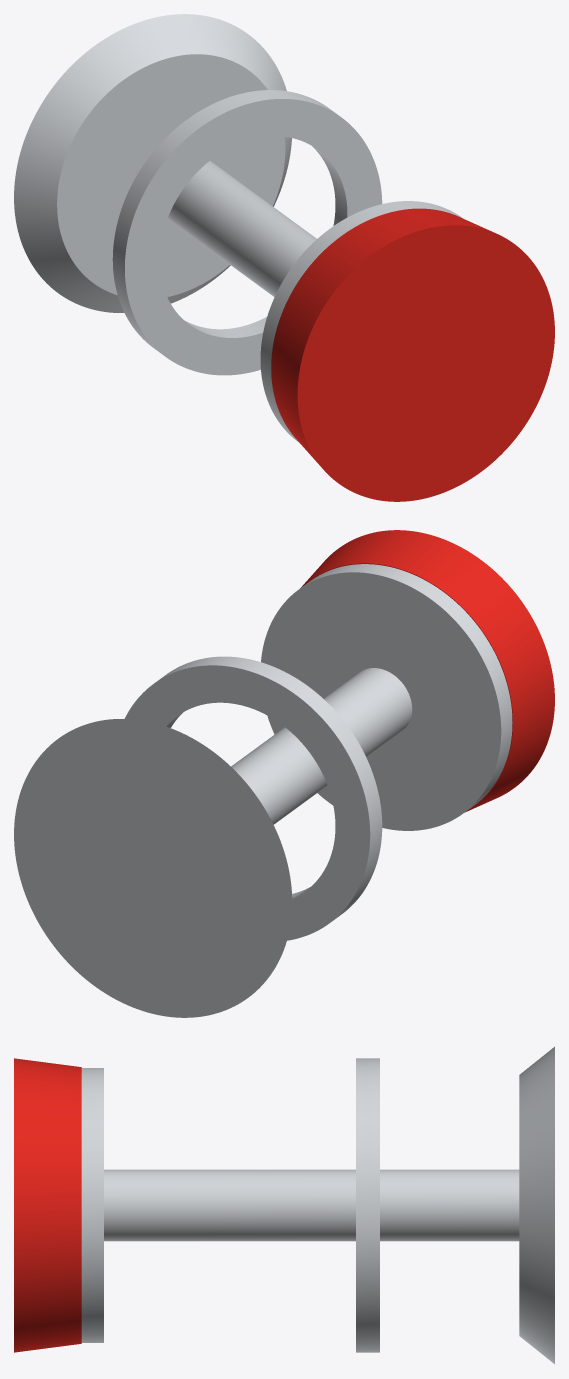
Rendered from stool.glb.
3 views of the same model, one above another, from view 1: azimuth 30°, elevation 25°; view 2: azimuth 150°, elevation 25°; view 3: azimuth 270°, elevation 25° (orthographic).
Parts seen in each view (by area): view 1: 座面, ベース, フットリング, 柱, 座下バンド; view 2: ベース, 座下バンド, フットリング, 座面, 柱; view 3: 柱, 座面, ベース, フットリング, 座下バンド.
Part boxes in pixels (x1,y1,x2,y2): 座面: (271, 208, 554, 501); ベース: (14, 14, 291, 312); フットリング: (112, 90, 382, 375); 柱: (167, 160, 316, 296); 座下バンド: (260, 201, 462, 442); ベース: (14, 719, 292, 1017); 座下バンド: (261, 564, 512, 830); フットリング: (124, 656, 382, 940); 座面: (300, 530, 554, 812); 柱: (231, 668, 412, 824); 柱: (104, 1169, 519, 1241); 座面: (14, 1058, 81, 1352); ベース: (519, 1046, 554, 1364); フットリング: (356, 1058, 379, 1352); 座下バンド: (81, 1068, 103, 1342).
Size of the model in its own units: 400 by 400 by 680.
